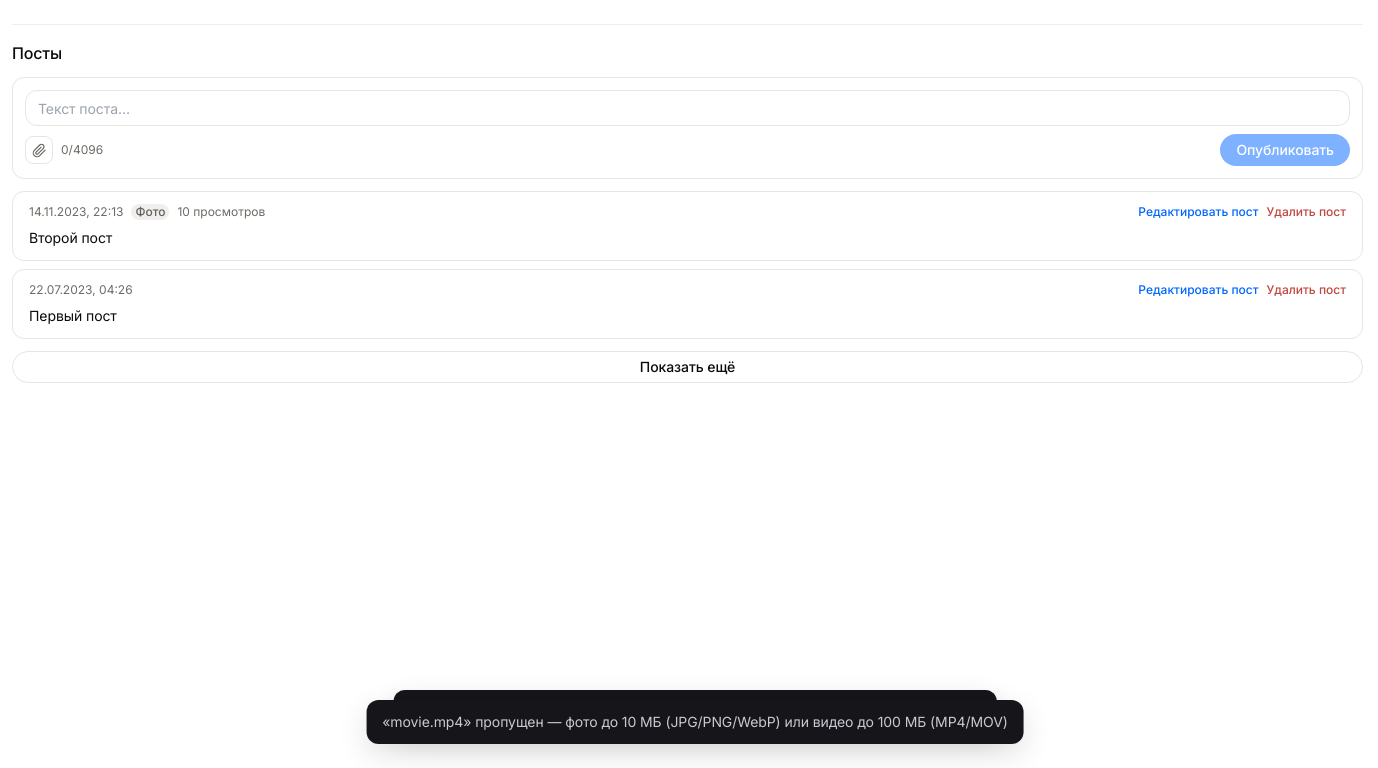
Test: a failed edit surfaces the translated stable code inline
Check: the text "Второй пост" is shown, box [29,229,112,246]
Click the button labelled "Редактировать пост" in the row of "10 просмотров". click: {"x": 1198, "y": 212}
box: [1138,204,1259,220]
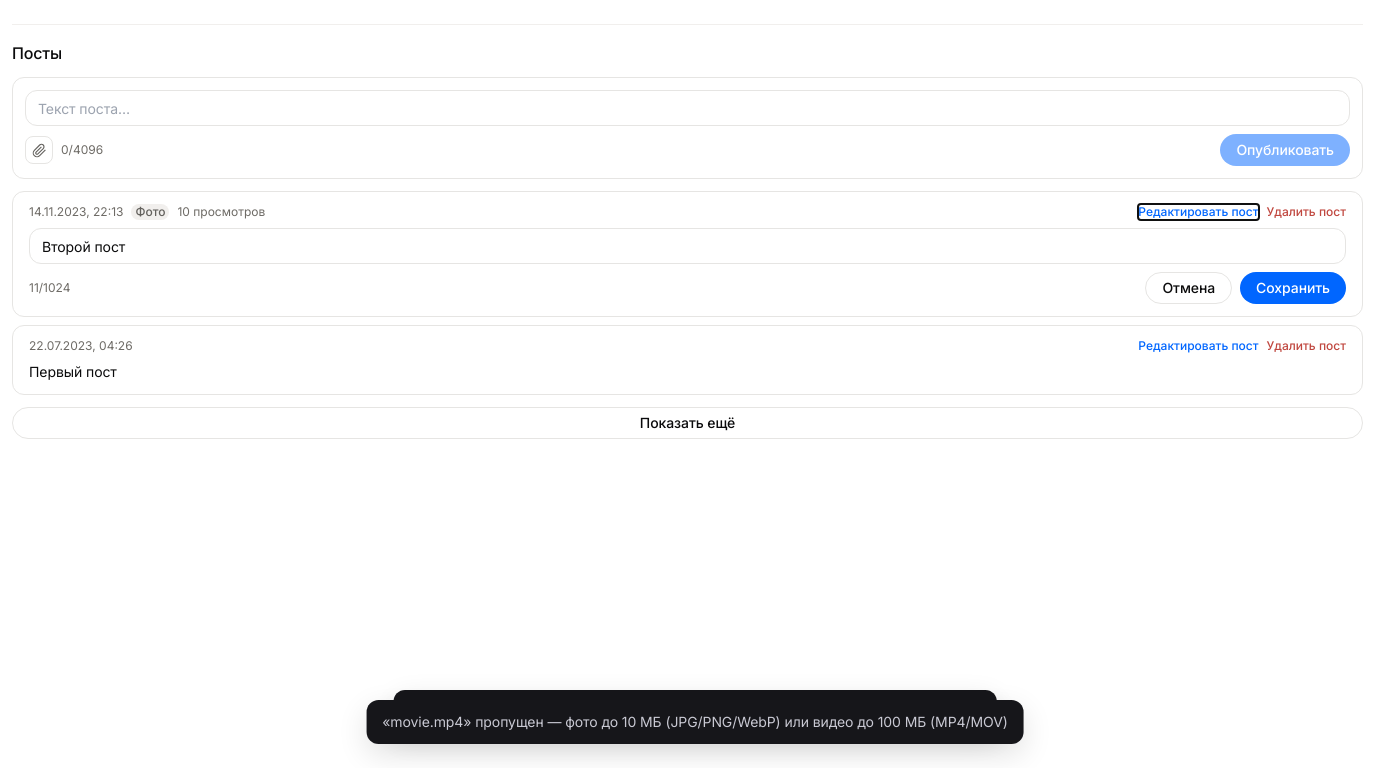
Click the button "Сохранить". click: {"x": 1293, "y": 288}
box: [1240,272,1346,304]
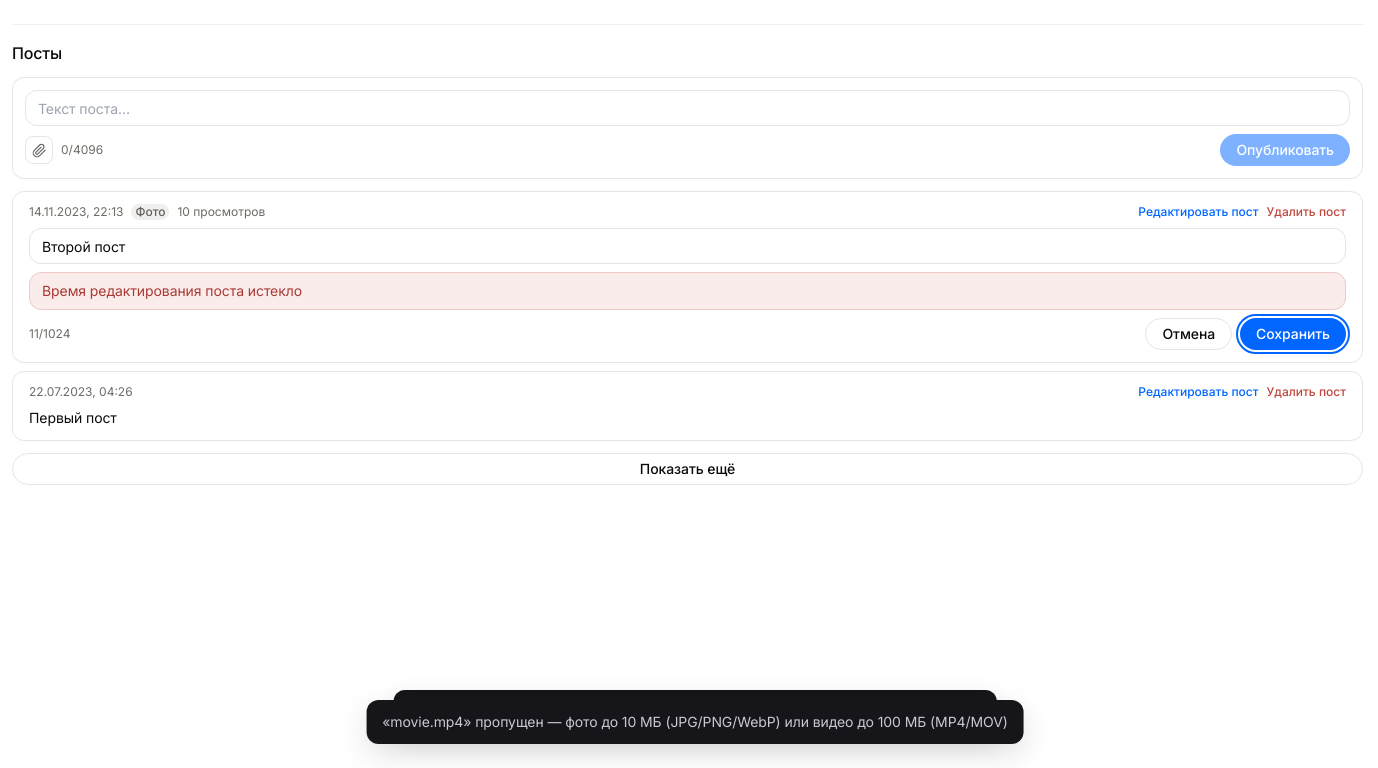
Check: the text "Время редактирования поста истекло" is shown, box [29,272,1346,310]
